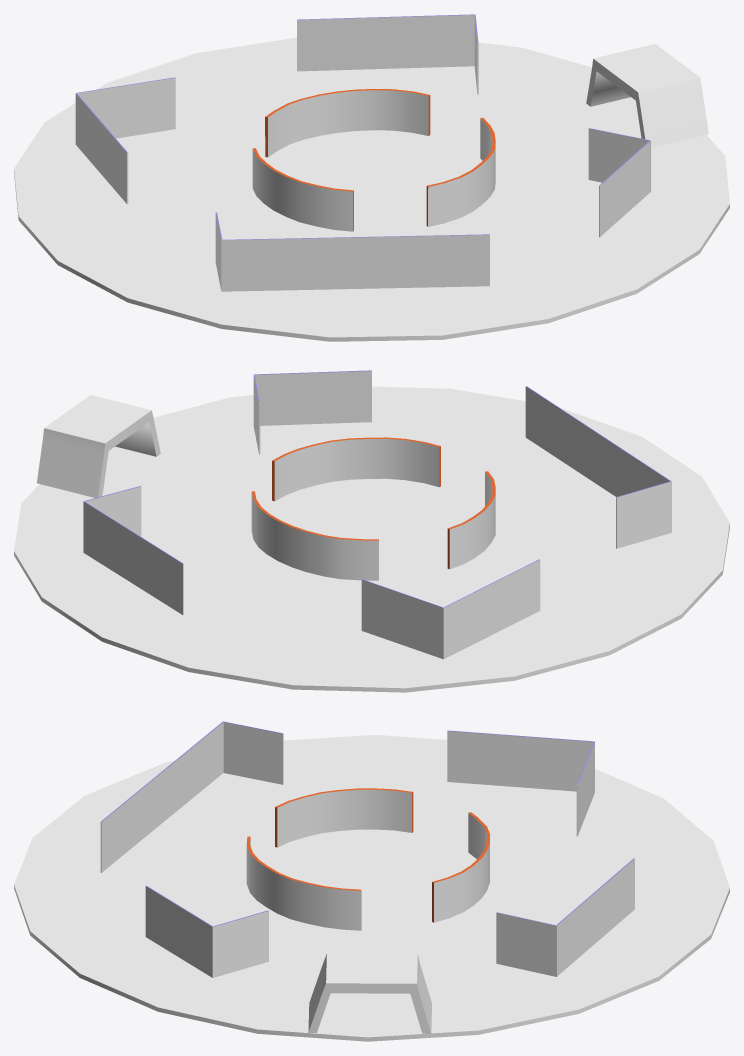
Rendered from sketchroom.fbx.
3 renders of one model, top to bottom at view 1: azimuth 30°, elevation 25°; view 2: azimuth 150°, elevation 25°; view 3: azimuth 270°, elevation 25°, orthographic.
Visible parts, largest first — view 1: concept_wall:ske_door; view 2: concept_wall:ske_door; view 3: concept_wall:ske_door.
Boxes of the visible parts, box(x1,y1,x2,y2) form: concept_wall:ske_door: box(14, 14, 729, 341); concept_wall:ske_door: box(14, 370, 729, 692); concept_wall:ske_door: box(14, 721, 729, 1041).
Size of the model in its own units: 6409 by 591 by 6409.
Materials: 1 (1 with a texture image).
